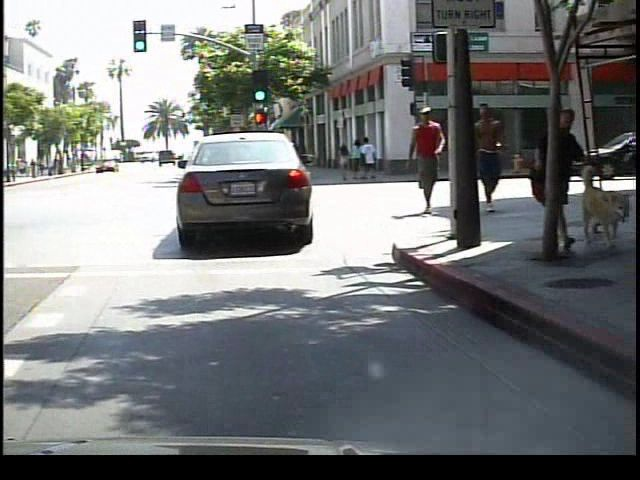person: (401, 100, 446, 223), (470, 98, 512, 220)
